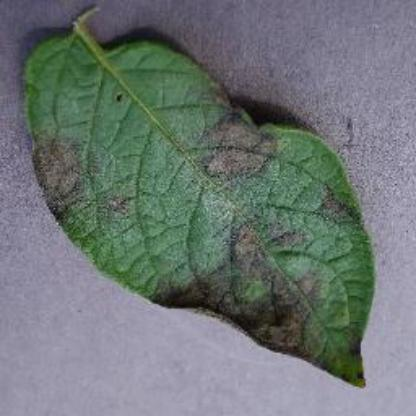Late-Blight: (12, 15, 400, 405)
